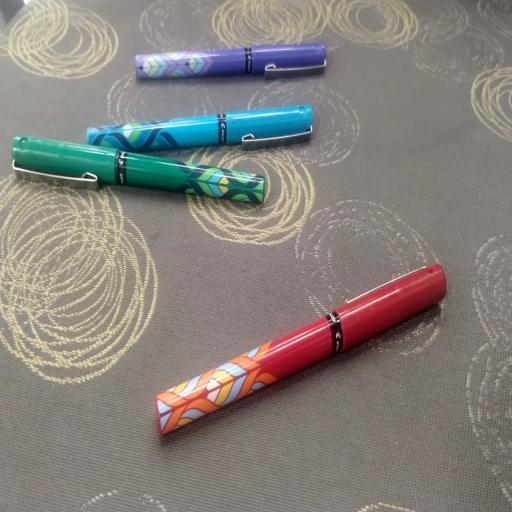pen: (156, 264, 446, 434), (12, 136, 265, 203), (87, 105, 312, 151), (136, 43, 326, 79)
